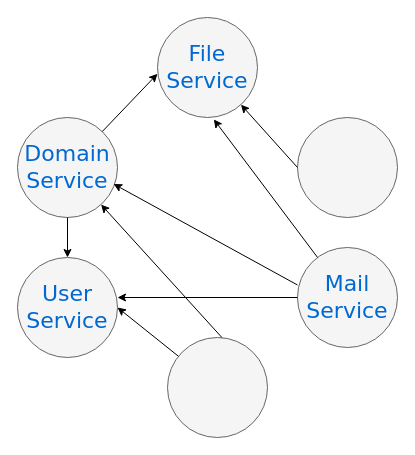
This 415x455 diagram has some shape labels left out. Each missing label, with the centre of its shape:
Chat Service: point (217, 387)
Preview Service: point (347, 167)
